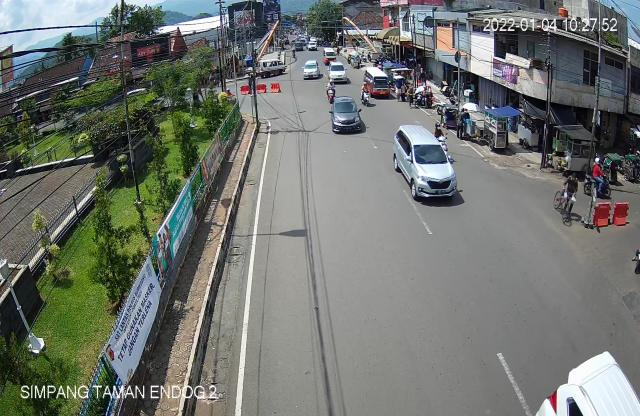Mobil: (388, 123, 459, 207), (330, 90, 368, 141)
Motor: (532, 350, 640, 416), (581, 156, 611, 200)
